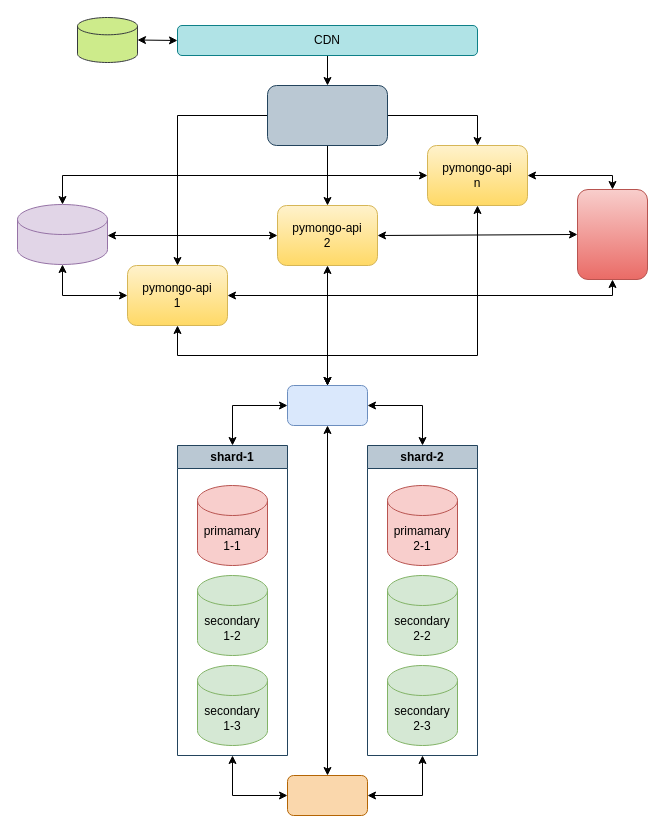
Some shapes in this 665 by 833 pixel diagram are drawn without their labels. Here are the shapes that lost their labels. From the top down, the centre of each, then its label:
At (107,39): "Статичные двнные".
At (327,115): "api-gateway".
At (62,234): "redis".
At (612,234): "Service Discovery".
At (327,405): "mongos-router".
At (327,795): "config-srv".
